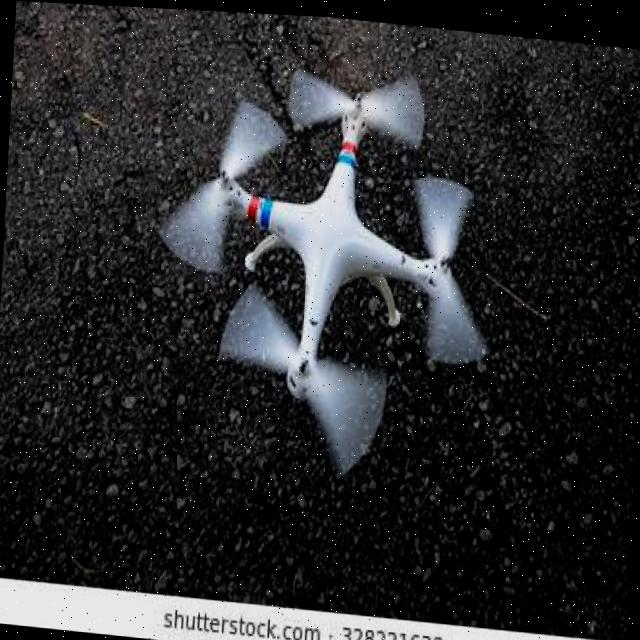drone: (108, 8, 530, 500)
